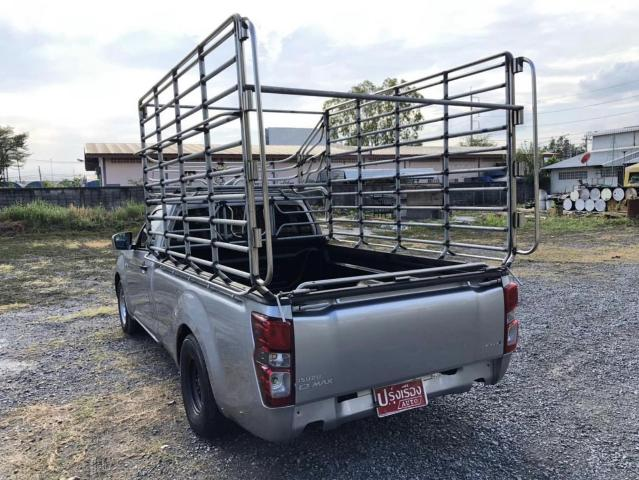pickup-truck: (80, 3, 564, 452)
